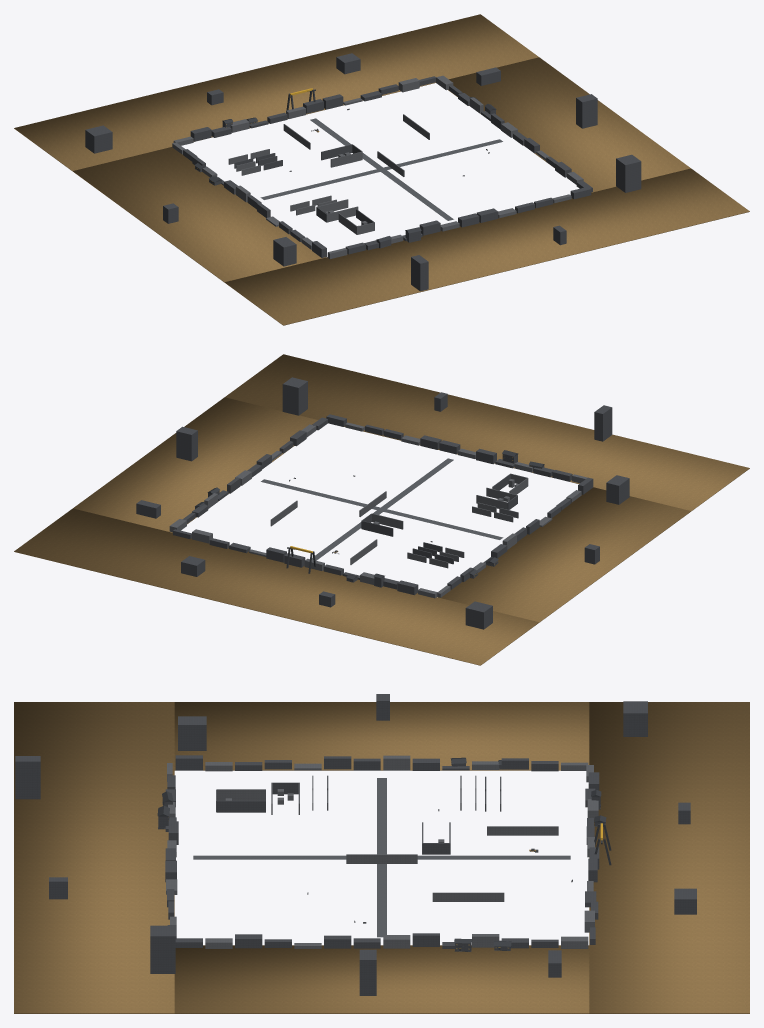
Rendered from souko-lod2.glb.
3 views of the same model, one above another, from view 1: azimuth 30°, elevation 25°; view 2: azimuth 150°, elevation 25°; view 3: azimuth 270°, elevation 25° (orthographic). The views are drawn at different scales.
Parts seen in each view (by area): view 1: HB_souko_LOD2_terrain, HB_souko_LOD2_wall_alt, HB_souko_LOD2_wall, HB_souko_LOD2_road, HB_souko_LOD2_trim; view 2: HB_souko_LOD2_terrain, HB_souko_LOD2_wall_alt, HB_souko_LOD2_wall, HB_souko_LOD2_road, HB_souko_LOD2_trim; view 3: HB_souko_LOD2_terrain, HB_souko_LOD2_wall_alt, HB_souko_LOD2_wall, HB_souko_LOD2_road, HB_souko_LOD2_trim.
Part boxes in pixels (x1,y1,x2,y2): HB_souko_LOD2_terrain: (14,14,749,325); HB_souko_LOD2_wall_alt: (85,53,641,291); HB_souko_LOD2_wall: (172,75,583,258); HB_souko_LOD2_road: (260,118,502,220); HB_souko_LOD2_trim: (194,89,496,242); HB_souko_LOD2_terrain: (14,354,749,665); HB_souko_LOD2_wall_alt: (136,377,629,629); HB_souko_LOD2_wall: (169,422,587,598); HB_souko_LOD2_road: (261,458,503,560); HB_souko_LOD2_trim: (195,450,544,579); HB_souko_LOD2_terrain: (14,702,749,1013); HB_souko_LOD2_wall_alt: (15,694,696,995); HB_souko_LOD2_wall: (166,755,598,948); HB_souko_LOD2_road: (193,778,570,937); HB_souko_LOD2_trim: (157,757,611,951).
Size of the model in its own units: 596 by 34.86 by 596.
8 materials, 7 textured.
